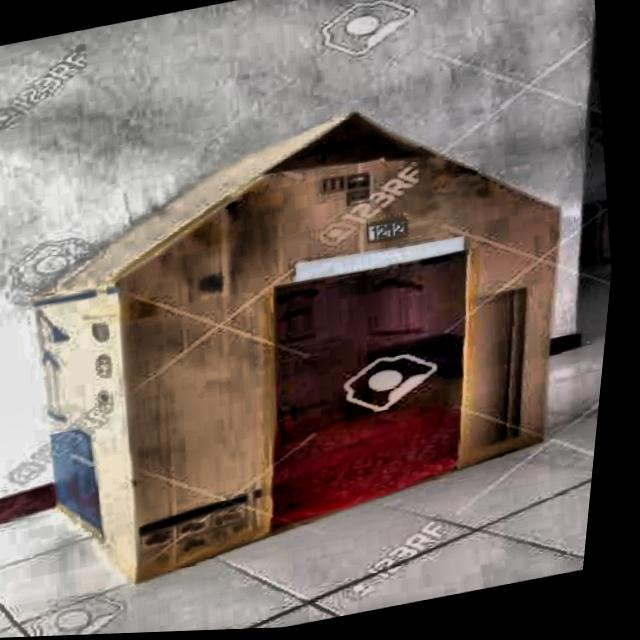Cardbox: (0, 54, 634, 613)
